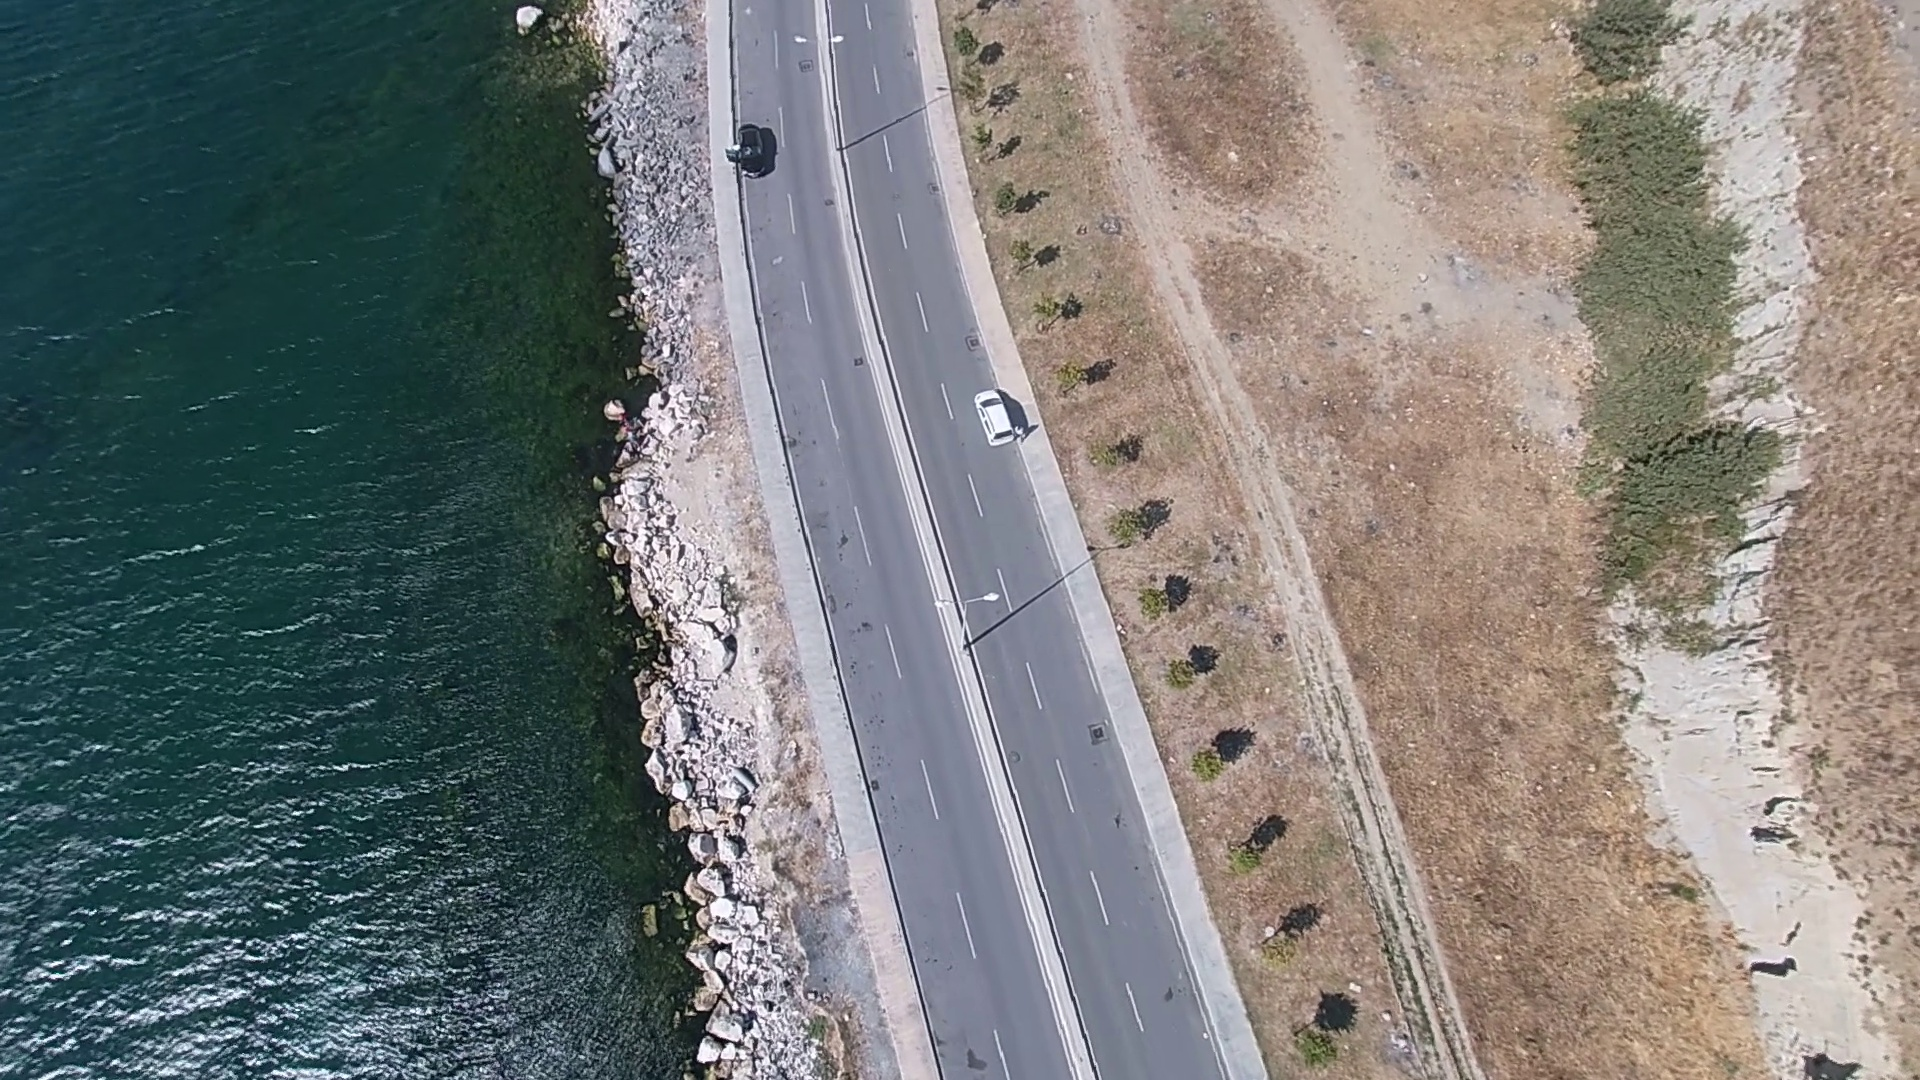arac: (966, 380, 1018, 448)
insan: (1171, 644, 1220, 681)
